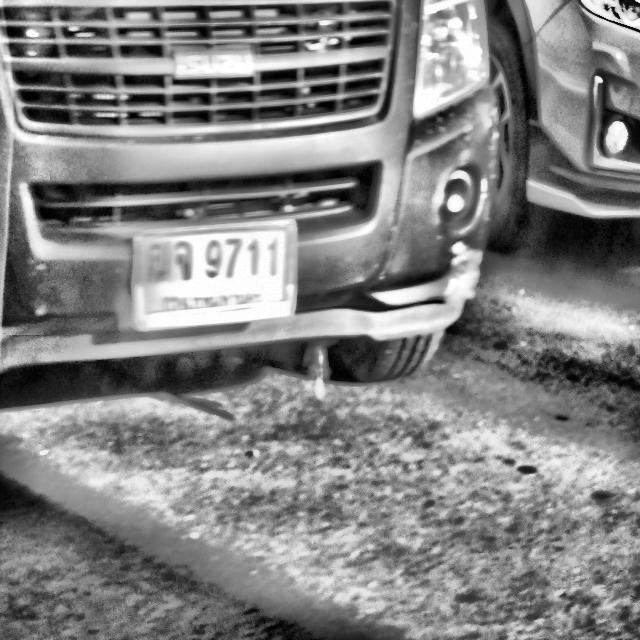license-plate: (130, 211, 303, 341)
